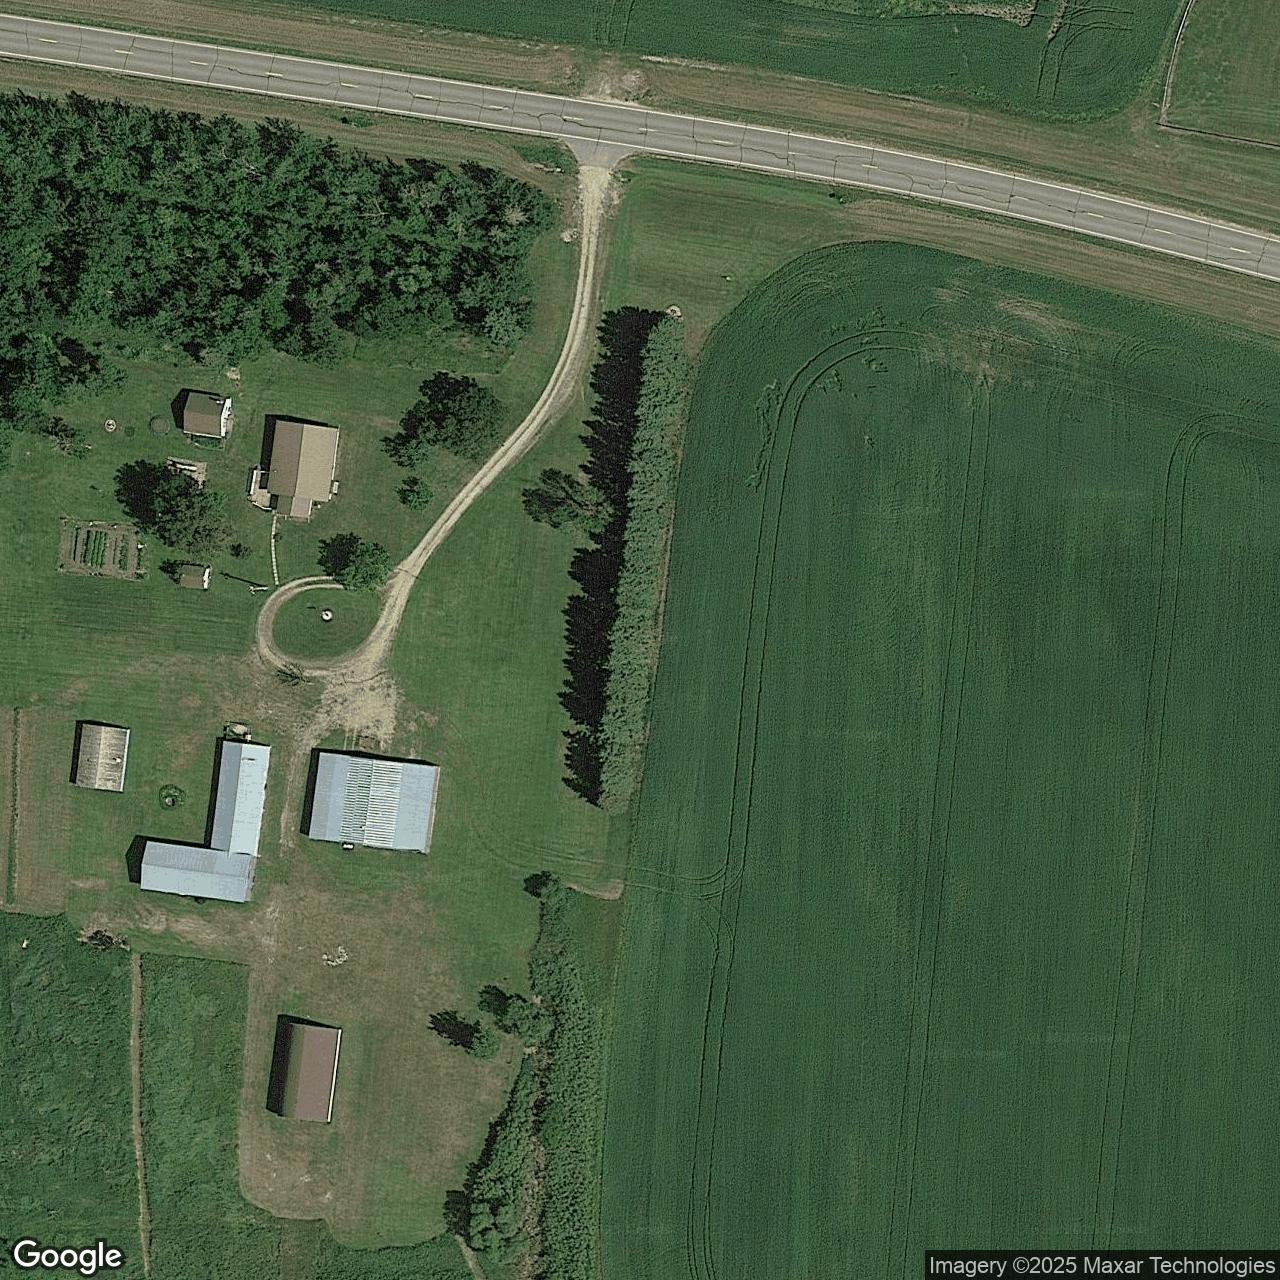Garage: (179, 565, 210, 590)
House: (141, 741, 271, 903), (309, 753, 438, 852), (267, 418, 339, 518), (278, 1022, 342, 1122), (75, 723, 130, 792), (184, 390, 231, 437)
Propane: (172, 461, 199, 474), (342, 842, 356, 851)
